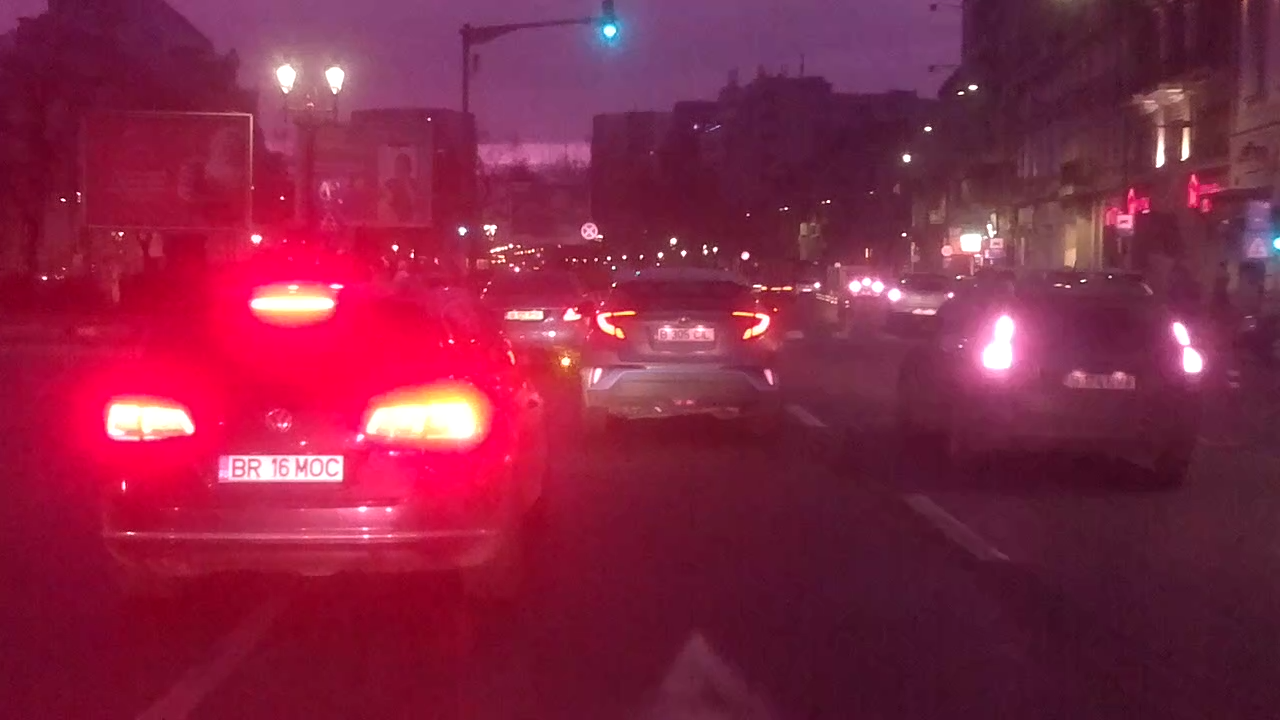license-plate: (213, 450, 348, 485), (652, 326, 717, 343)
